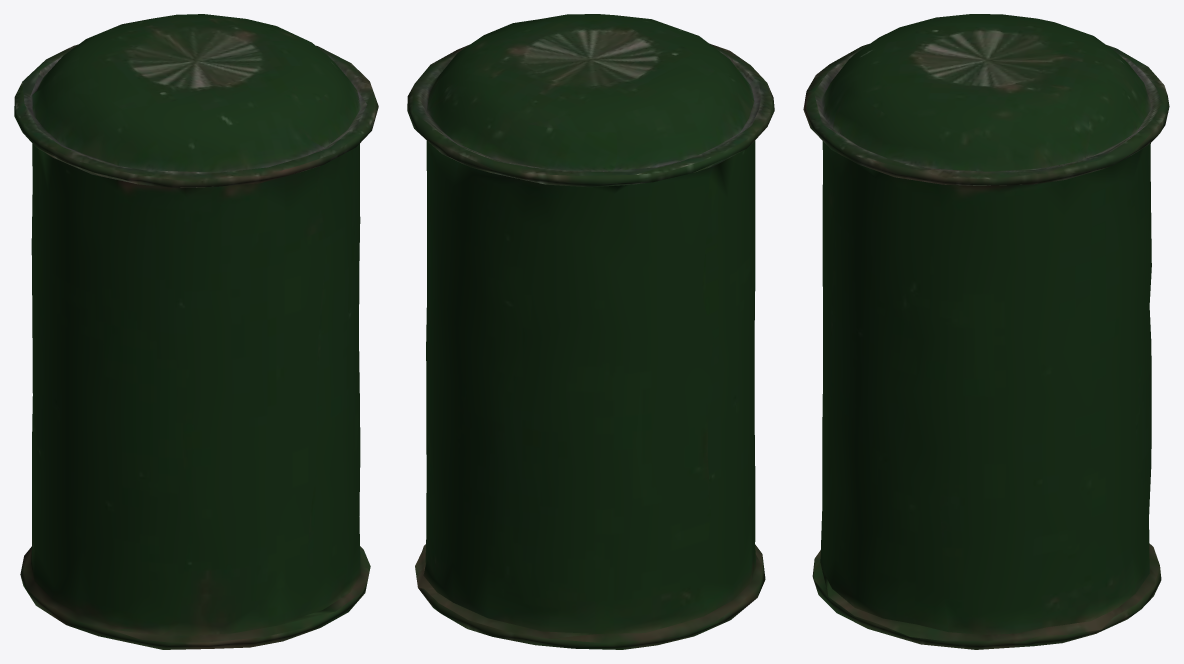
File: street-bin.glb
3 renders of one model, left to right at view 1: azimuth 30°, elevation 25°; view 2: azimuth 150°, elevation 25°; view 3: azimuth 270°, elevation 25°, orthographic.
Visible parts, largest first — view 1: Mesh_0.011; view 2: Mesh_0.011; view 3: Mesh_0.011.
Part boxes in pixels (x1,y1,x2,y2): Mesh_0.011: (14, 14, 378, 649); Mesh_0.011: (407, 14, 774, 649); Mesh_0.011: (803, 14, 1169, 649).
Bounding box in the file's own units: 0.5718 × 0.9 × 0.5735.
1 material, 1 textured.
